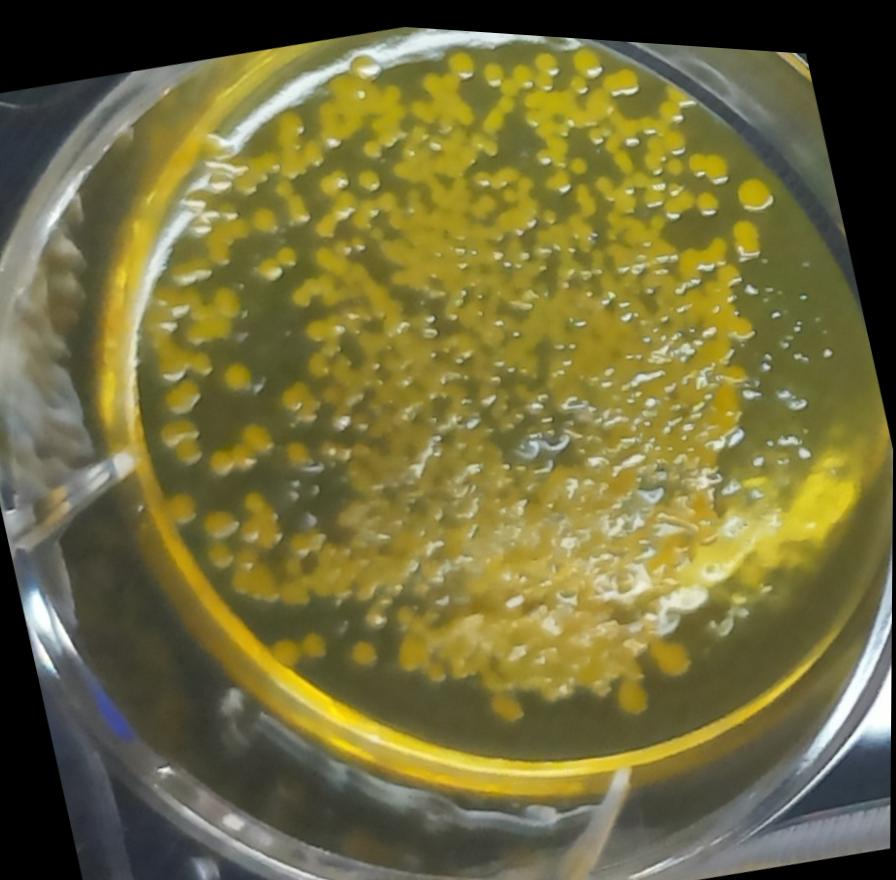vharveyi: (291, 301, 359, 381), (722, 151, 784, 213), (646, 620, 703, 679), (609, 666, 655, 717), (344, 628, 385, 673), (344, 154, 385, 196)
